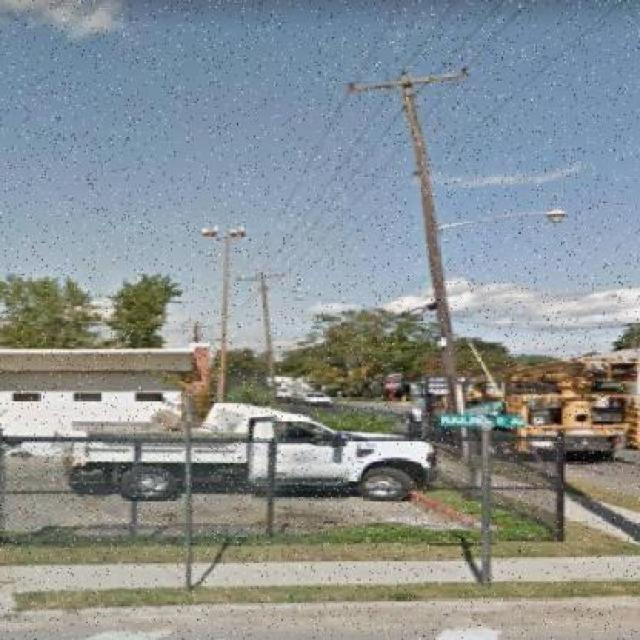pole: (324, 41, 591, 488)
